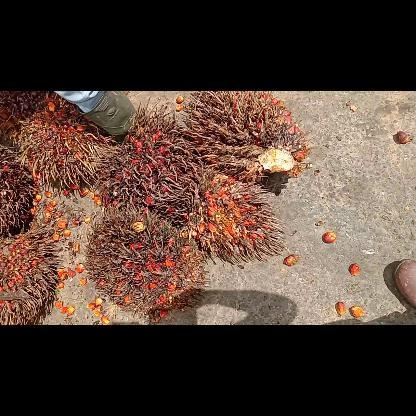Terlalu masak: (80, 202, 212, 324), (96, 100, 218, 228), (181, 91, 315, 185), (178, 165, 290, 269)
